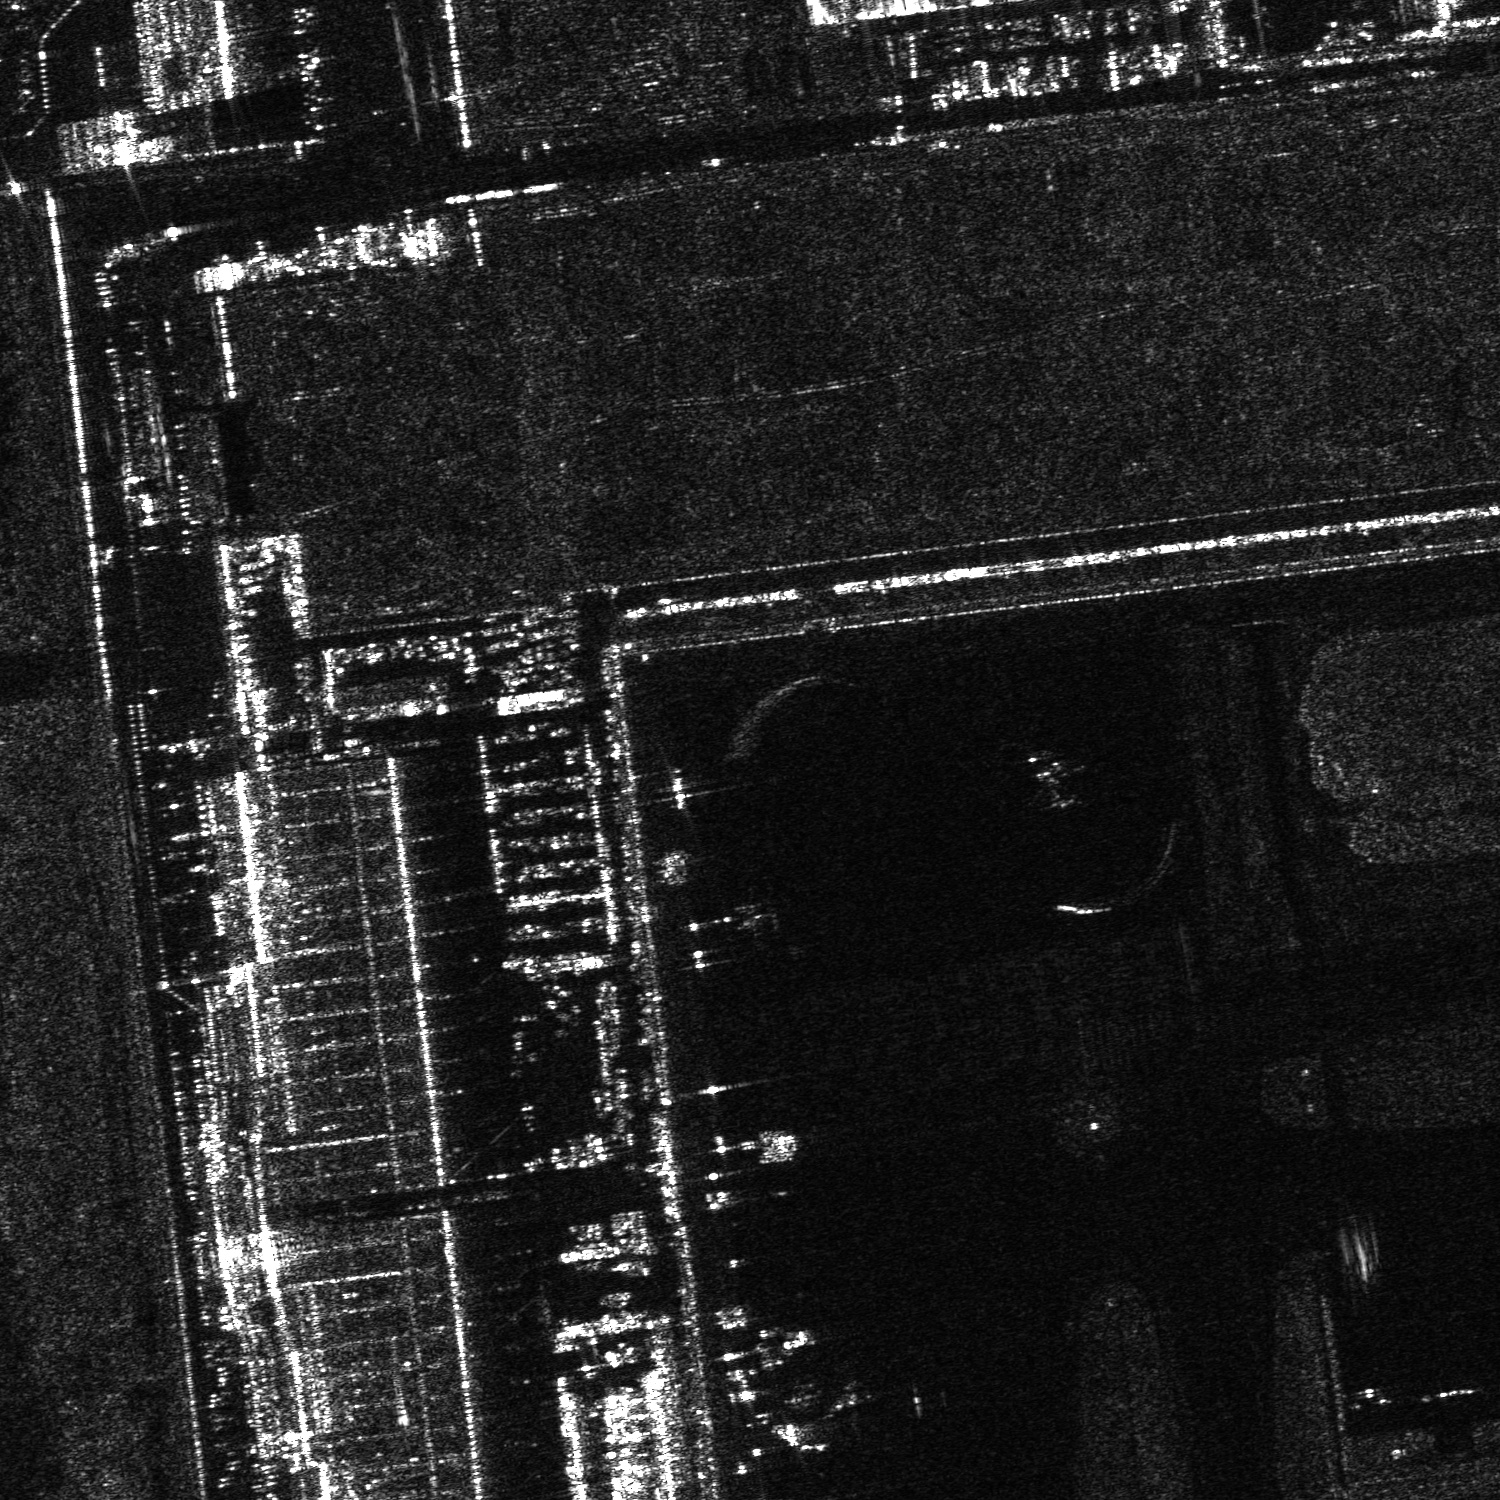A220: (1018, 753, 1087, 810)
